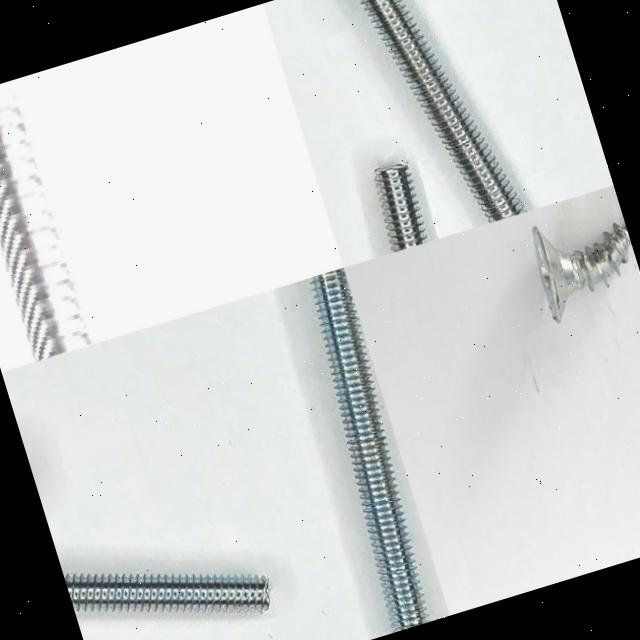Screw: (311, 267, 429, 632), (360, 0, 527, 222), (0, 91, 115, 363), (533, 221, 632, 324), (63, 575, 269, 613), (374, 165, 426, 252)
